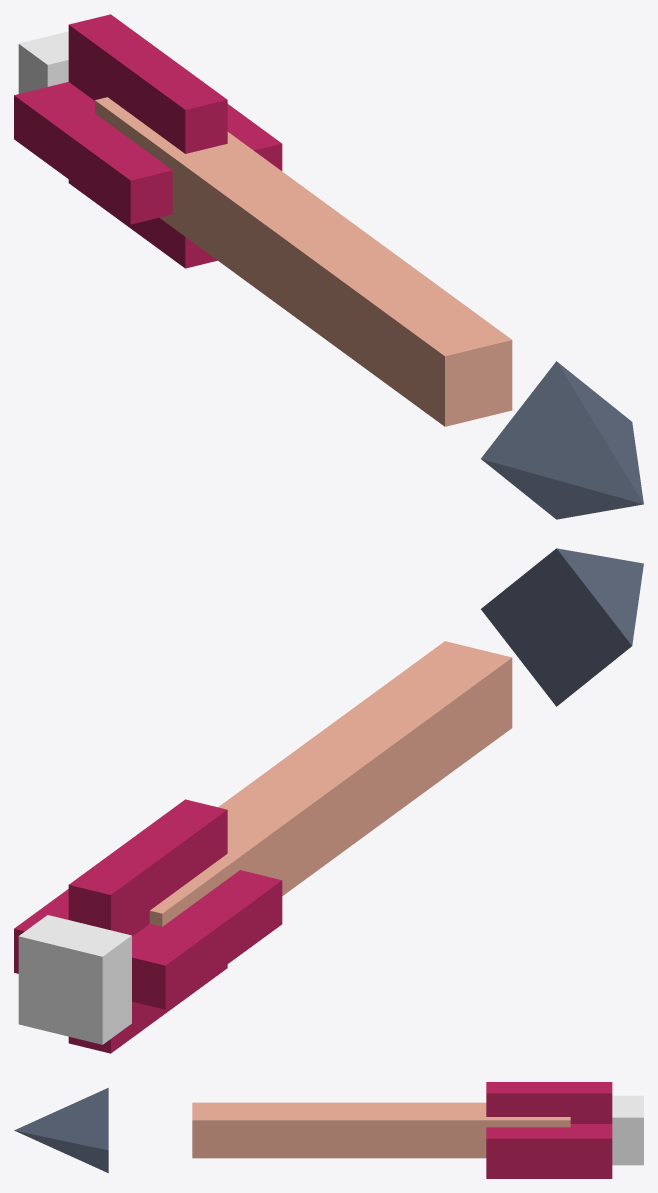
The model's file is arrow.glb.
The picture shows the model from 3 angles, top to bottom: view 1: azimuth 30°, elevation 25°; view 2: azimuth 150°, elevation 25°; view 3: azimuth 270°, elevation 25°; orthographic projection. The views are drawn at different scales.
Visible parts, largest first — view 1: Shaft, Head, Fletch, Fletch2, Nock; view 2: Shaft, Head, Fletch, Fletch2, Nock; view 3: Shaft, Fletch, Fletch2, Head, Nock.
Part boxes in pixels (x1,y1,x2,y2): Shaft: [95, 97, 512, 426]; Head: [481, 361, 643, 519]; Fletch: [68, 14, 227, 268]; Fletch2: [14, 82, 282, 224]; Nock: [18, 31, 68, 93]; Shaft: [149, 641, 512, 926]; Head: [481, 548, 643, 706]; Fletch: [68, 799, 227, 1053]; Fletch2: [14, 870, 282, 1009]; Nock: [18, 915, 131, 1044]; Shaft: [192, 1102, 570, 1158]; Fletch: [486, 1082, 612, 1178]; Fletch2: [486, 1124, 612, 1162]; Head: [14, 1087, 108, 1173]; Nock: [612, 1095, 643, 1165].
Bounding box in the file's own units: 0.18 × 0.18 × 1.2.
